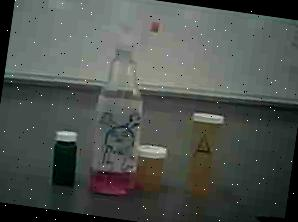Bottle A: (174, 105, 232, 202)
Bottle B: (128, 132, 178, 194)
Bottle C: (44, 125, 88, 192)
hazard: (80, 14, 158, 203)
